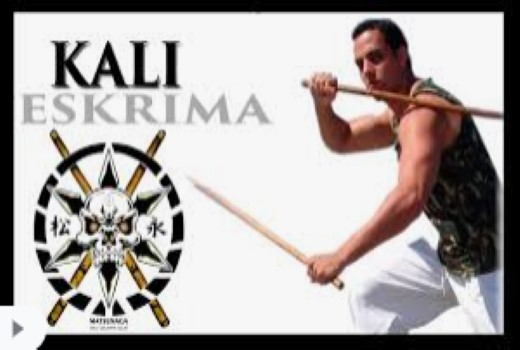baston_e: (200, 170, 309, 271), (335, 76, 500, 123)
baston_v: (327, 263, 349, 293), (40, 309, 62, 330), (295, 70, 313, 93), (496, 104, 512, 128), (154, 314, 176, 331), (151, 122, 170, 140), (46, 123, 61, 143)
